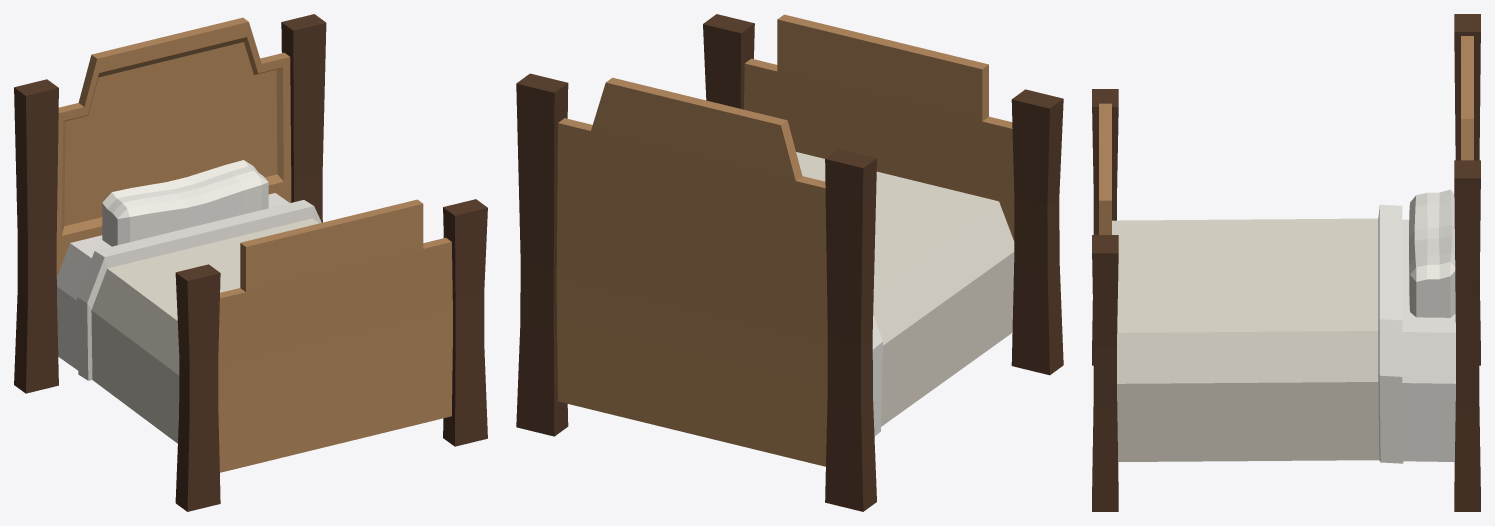
The model's file is qt-bed.glb.
3 renders of one model, left to right at view 1: azimuth 30°, elevation 25°; view 2: azimuth 150°, elevation 25°; view 3: azimuth 270°, elevation 25°, orthographic. The views are drawn at different scales.
Parts seen in each view (by area): view 1: Bed_Cube.011; view 2: Bed_Cube.011; view 3: Bed_Cube.011.
Part boxes in pixels (x1=…): Bed_Cube.011: x1=14, y1=14, x2=487, y2=511; Bed_Cube.011: x1=516, y1=14, x2=1063, y2=511; Bed_Cube.011: x1=1092, y1=14, x2=1480, y2=511.
Bounding box in the file's own units: 1 × 1 × 1.
